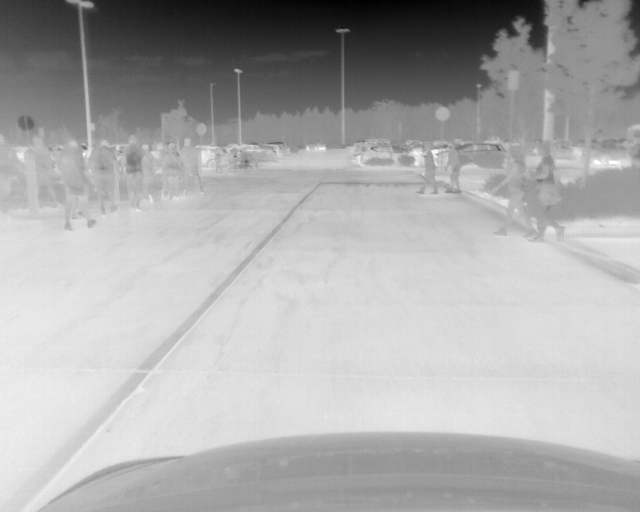car: (435, 140, 508, 168), (364, 143, 414, 165), (585, 150, 622, 170), (198, 145, 228, 169), (246, 144, 272, 151), (306, 143, 325, 151)
people: (493, 144, 536, 238), (528, 142, 568, 242), (61, 137, 96, 229), (88, 139, 119, 215), (27, 136, 57, 208), (118, 135, 141, 214), (1, 134, 22, 213), (415, 143, 439, 195), (181, 135, 201, 197), (162, 140, 180, 201), (443, 144, 461, 196), (144, 140, 158, 205), (213, 147, 223, 173), (232, 146, 238, 173), (227, 148, 233, 169), (254, 154, 258, 168)
